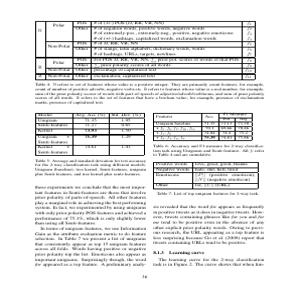table: (35, 19, 257, 80), (32, 110, 146, 158), (151, 111, 253, 143), (153, 161, 259, 189)
text: (32, 157, 147, 268), (152, 191, 266, 268), (33, 81, 264, 106), (151, 141, 264, 158)
